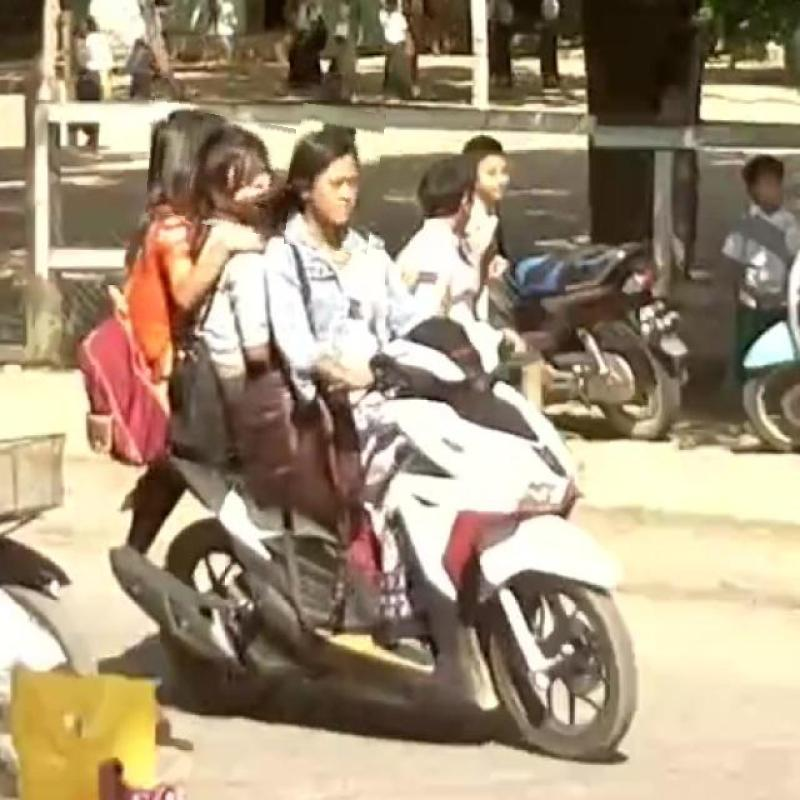nohelmet: (289, 106, 382, 252), (190, 116, 292, 234), (148, 79, 194, 216)
